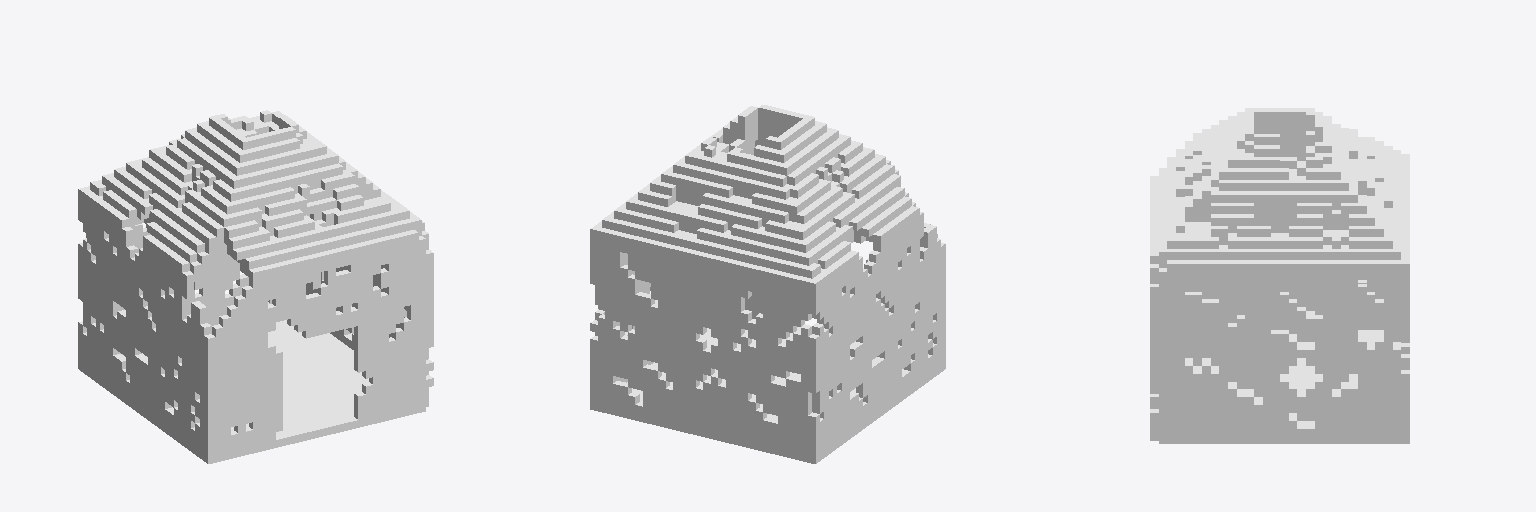
Rendered from shack.obj.
3 views of the same model, side by side, from view 1: azimuth 30°, elevation 25°; view 2: azimuth 150°, elevation 25°; view 3: azimuth 270°, elevation 25° (orthographic).
Bounding box in the file's own units: 30 × 34 × 30.